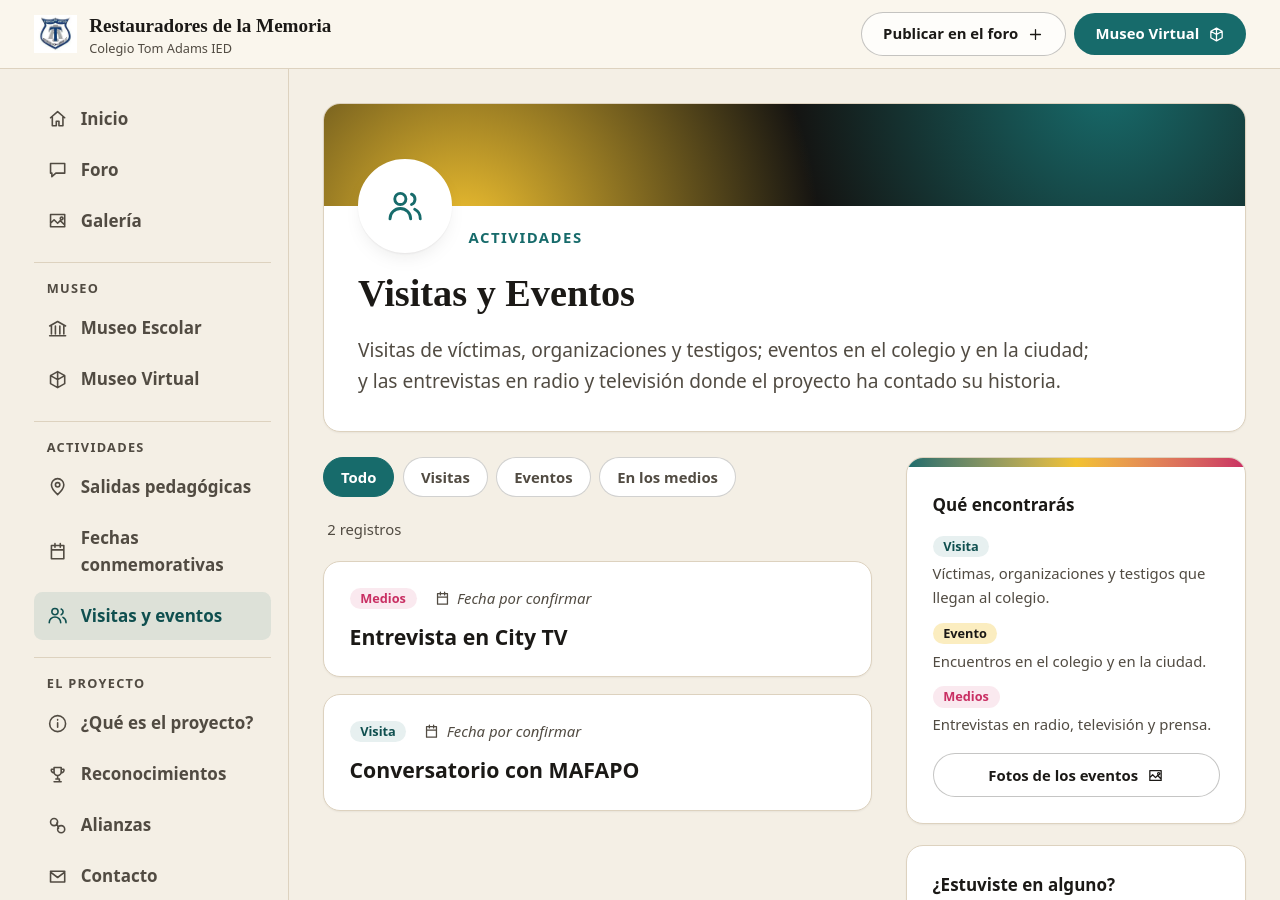
Test: Visitas y eventos › filtra por tipo en la API y guarda el filtro en la URL
The image size is (1280, 900).
Check: the text "2 registros" is shown, box [327,519,401,539]
Click the button "En los medios" at (668, 477), box [599,457,736,498]
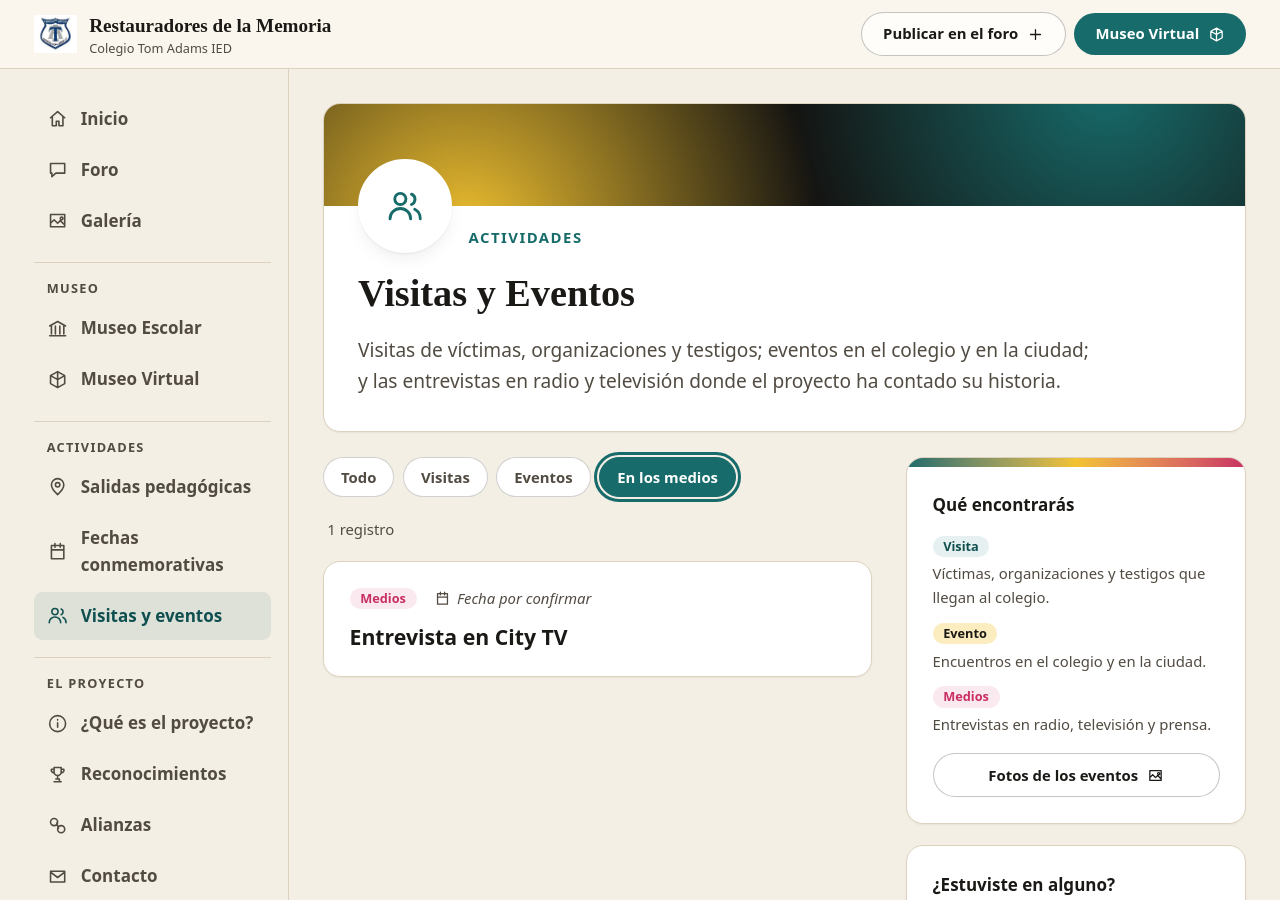
Check: the text "1 registro" is shown, box [327,519,394,539]
